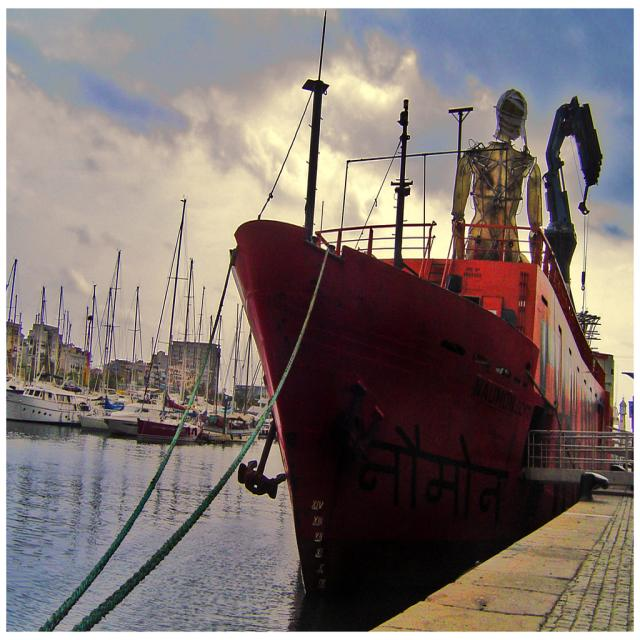Boat: (209, 44, 640, 594), (3, 199, 265, 442)
